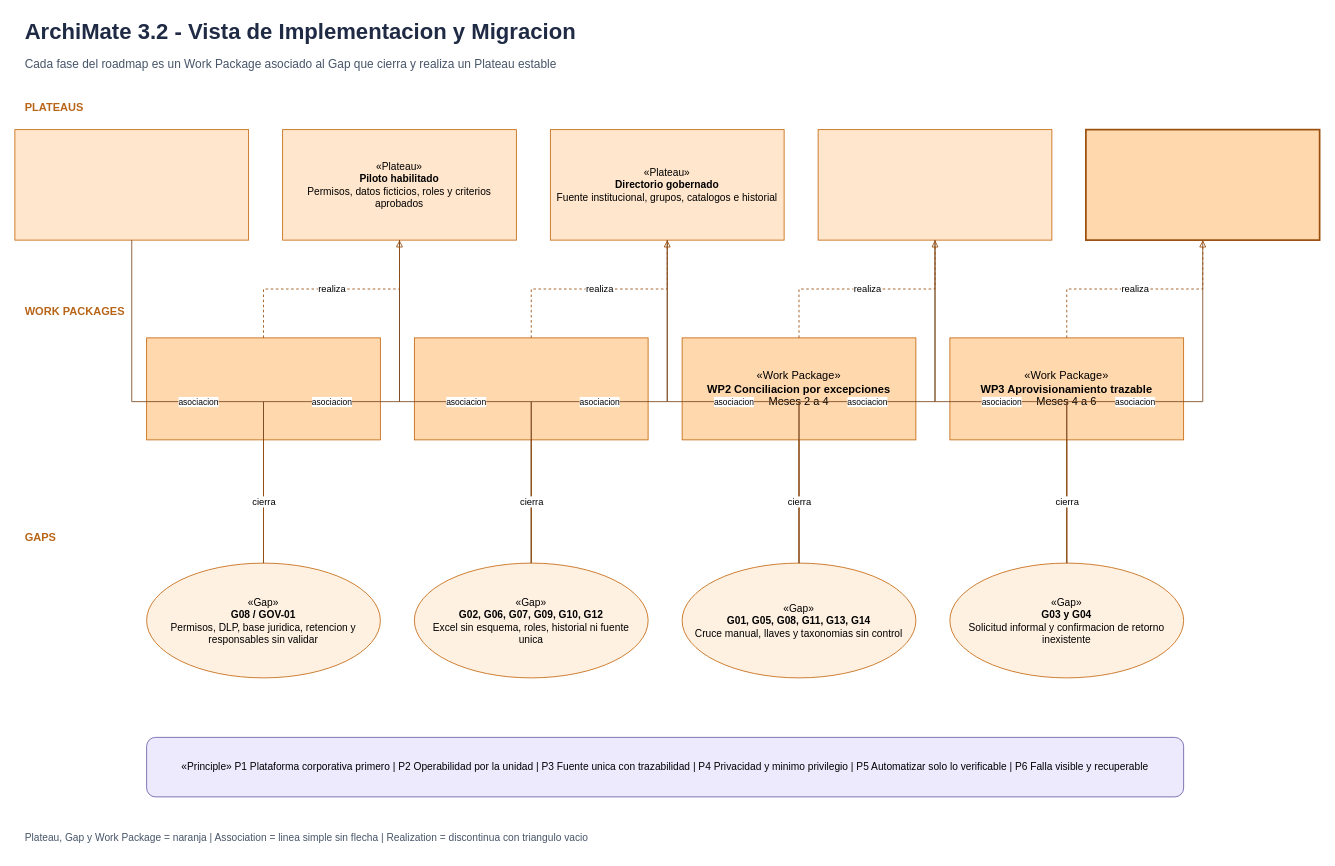
Image size: 1335x866. Some labels were removed from this diagram. Each missing label, with the box of its shape:
«Plateau» AS-IS 2026 Excel en OneDrive, revision manual y solicitudes informales: (14, 129, 249, 240)
«Plateau» Conciliacion mensual Excepciones, validacion humana y monitoreo: (817, 129, 1052, 240)
«Plateau» TO-BE operativo Aprovisionamiento trazable y operacion transferida: (1085, 128, 1320, 241)
«Work Package» WP0 Habilitacion y control 0 a 4 semanas: (146, 337, 380, 440)
«Work Package» WP1 Directorio gobernado Meses 1 y 2: (414, 337, 648, 440)
